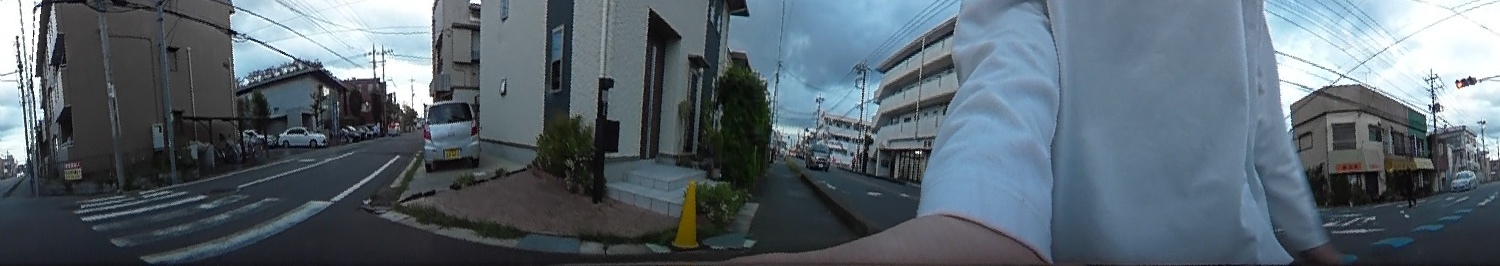difficult_person: (1403, 166, 1418, 209)
